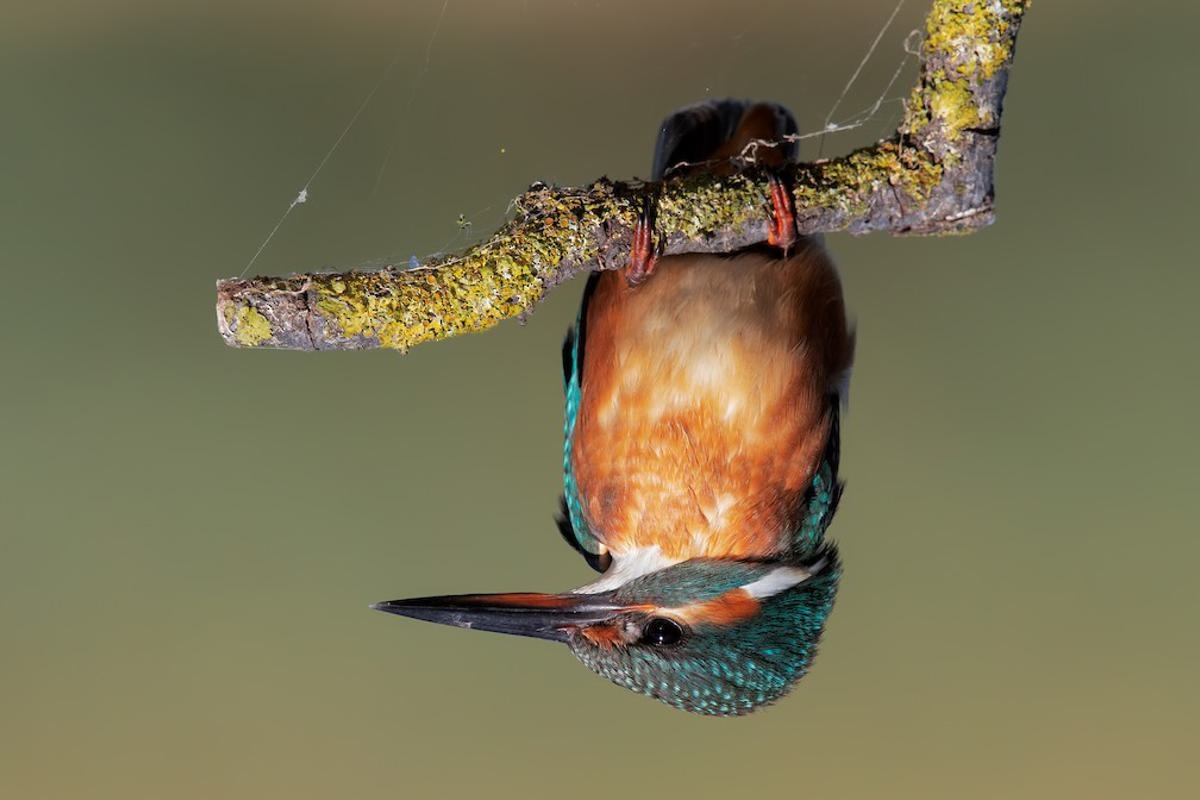kingfisher: (372, 81, 880, 715)
